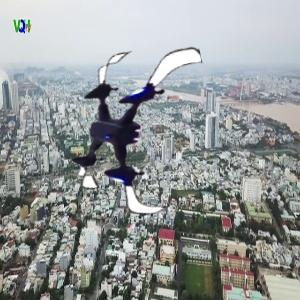drone: (47, 50, 218, 221)
